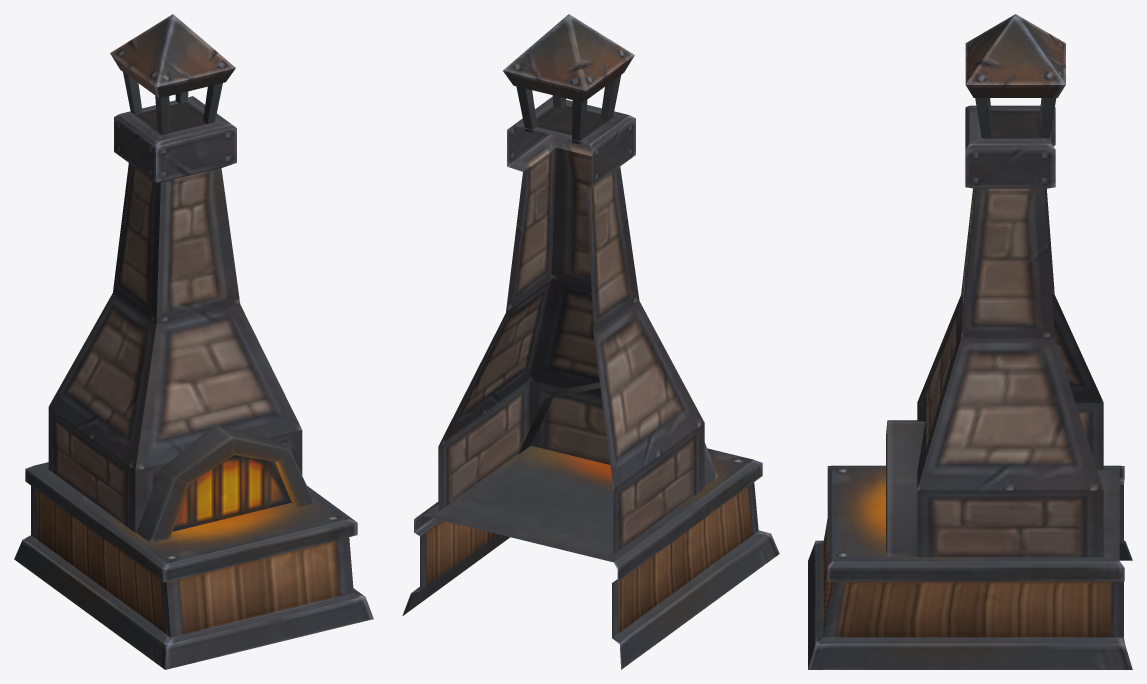
The model's file is paran_smoke_1.FBX.
The picture shows the model from 3 angles, left to right: view 1: azimuth 30°, elevation 25°; view 2: azimuth 150°, elevation 25°; view 3: azimuth 270°, elevation 25°; orthographic projection. The views are drawn at different scales.
Visible parts, largest first — view 1: Object119; view 2: Object119; view 3: Object119.
Boxes of the visible parts, box(x1,y1,x2,y2) form: Object119: box(14, 14, 373, 669); Object119: box(402, 14, 779, 669); Object119: box(808, 14, 1132, 669).
Bounding box in the file's own units: 58.58 × 150 × 73.51.
